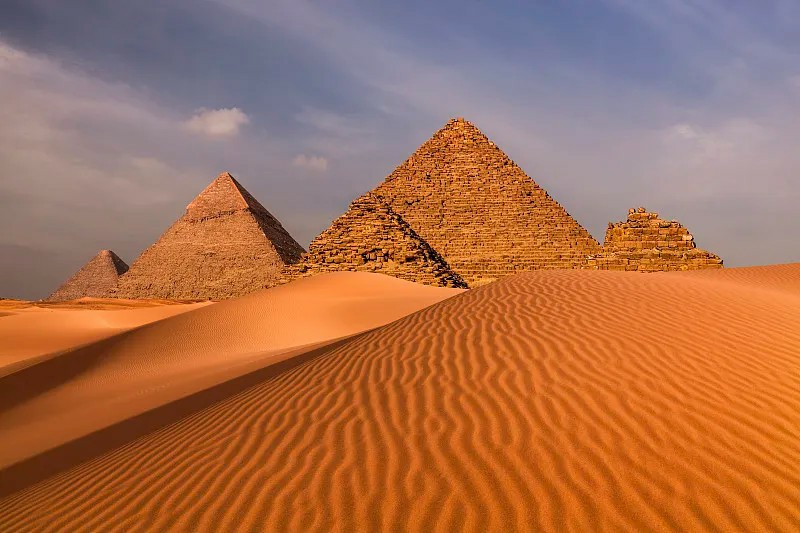Pyramid: (371, 120, 628, 272), (102, 172, 305, 299), (289, 194, 470, 289), (609, 209, 725, 271), (43, 251, 131, 305)
